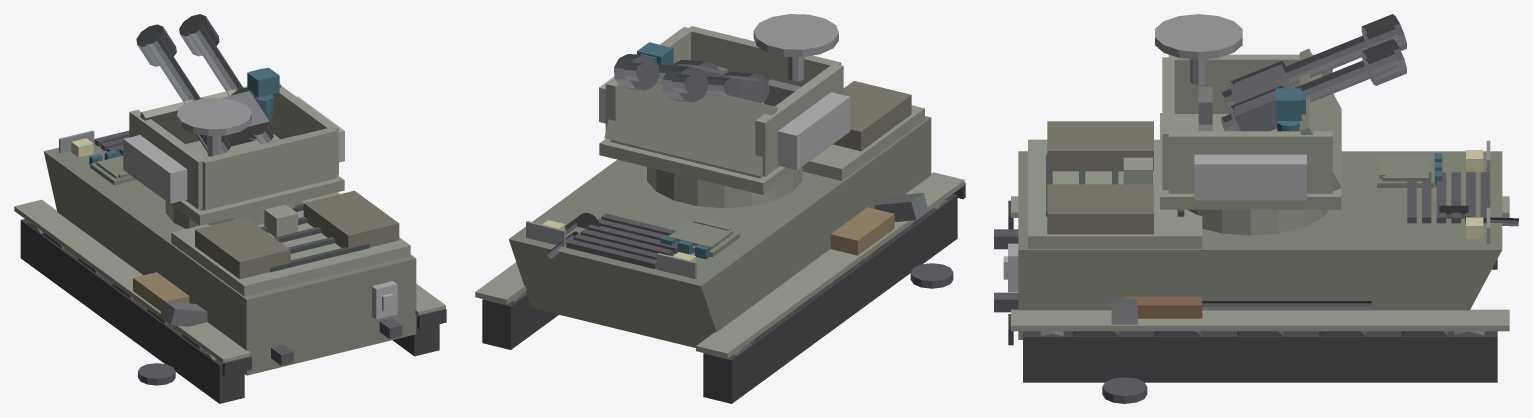
File: chinese_antiair.glb
The picture shows the model from 3 angles, left to right: view 1: azimuth 30°, elevation 25°; view 2: azimuth 150°, elevation 25°; view 3: azimuth 270°, elevation 25°; orthographic projection. The views are drawn at different scales.
Visible parts, largest first — view 1: hull, turret, track_l, barrel, engine_deck, fender_l, mount_base, fuel_cell_l, fuel_cell_r, ammo_l, radar, grille (+13 smaller); view 2: hull, turret, track_l, fender_l, mount_base, barrel, spare_track, ammo_l, radar, fuel_cell_l, track_r, engine_deck (+10 smaller); view 3: hull, track_r, turret, fender_r, barrel, engine_deck, mount_base, fuel_cell_r, ammo_r, fuel_cell_l, radar, spare_track (+11 smaller).
Boxes of the visible parts, left/top/right/bottom form: hull: left=43, top=130, right=416, bottom=375; turret: left=129, top=83, right=338, bottom=210; track_l: left=20, top=219, right=244, bottom=403; barrel: left=136, top=14, right=273, bottom=153; engine_deck: left=171, top=192, right=410, bottom=296; fender_l: left=14, top=199, right=250, bottom=363; mount_base: left=124, top=170, right=344, bottom=237; fuel_cell_l: left=195, top=217, right=290, bottom=279; fuel_cell_r: left=303, top=190, right=399, bottom=248; ammo_l: left=123, top=135, right=187, bottom=203; radar: left=176, top=98, right=251, bottom=156; grille: left=260, top=203, right=369, bottom=271; hull: left=508, top=116, right=931, bottom=347; turret: left=604, top=26, right=843, bottom=178; track_l: left=703, top=194, right=957, bottom=403; fender_l: left=696, top=172, right=964, bottom=358; mount_base: left=599, top=132, right=849, bottom=208; barrel: left=614, top=54, right=769, bottom=103; spare_track: left=566, top=213, right=678, bottom=268; ammo_l: left=777, top=92, right=850, bottom=169; radar: left=753, top=14, right=838, bottom=81; fuel_cell_l: left=833, top=81, right=911, bottom=151; track_r: left=482, top=294, right=558, bottom=349; engine_deck: left=802, top=105, right=924, bottom=180; hull: left=1018, top=151, right=1502, bottom=339; track_r: left=1023, top=331, right=1497, bottom=382; turret: left=1162, top=48, right=1341, bottom=193; fender_r: left=1011, top=309, right=1509, bottom=331; barrel: left=1221, top=14, right=1406, bottom=131; engine_deck: left=1028, top=139, right=1202, bottom=248; mount_base: left=1123, top=113, right=1341, bottom=235; fuel_cell_r: left=1047, top=184, right=1153, bottom=234; ammo_r: left=1194, top=154, right=1306, bottom=200; fuel_cell_l: left=1047, top=121, right=1153, bottom=171; radar: left=1155, top=14, right=1242, bottom=85; spare_track: left=1407, top=172, right=1490, bottom=223.
Size of the model in its own units: 4.66 by 3.7 by 6.07.
